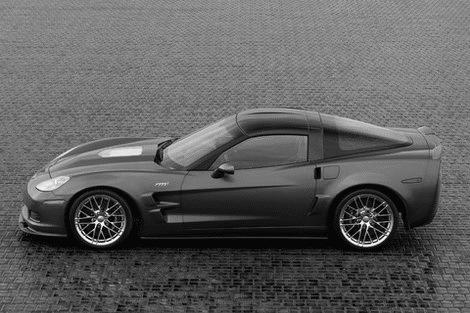car: (16, 105, 447, 257)
